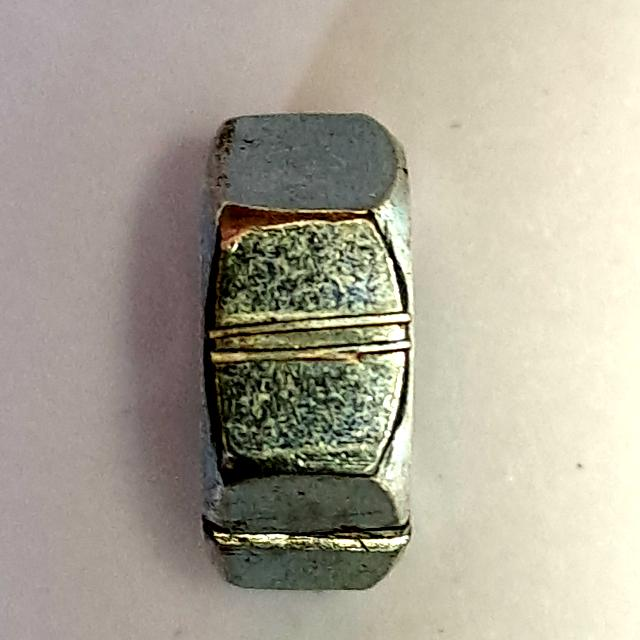Side_Scratches: (162, 96, 452, 610)
